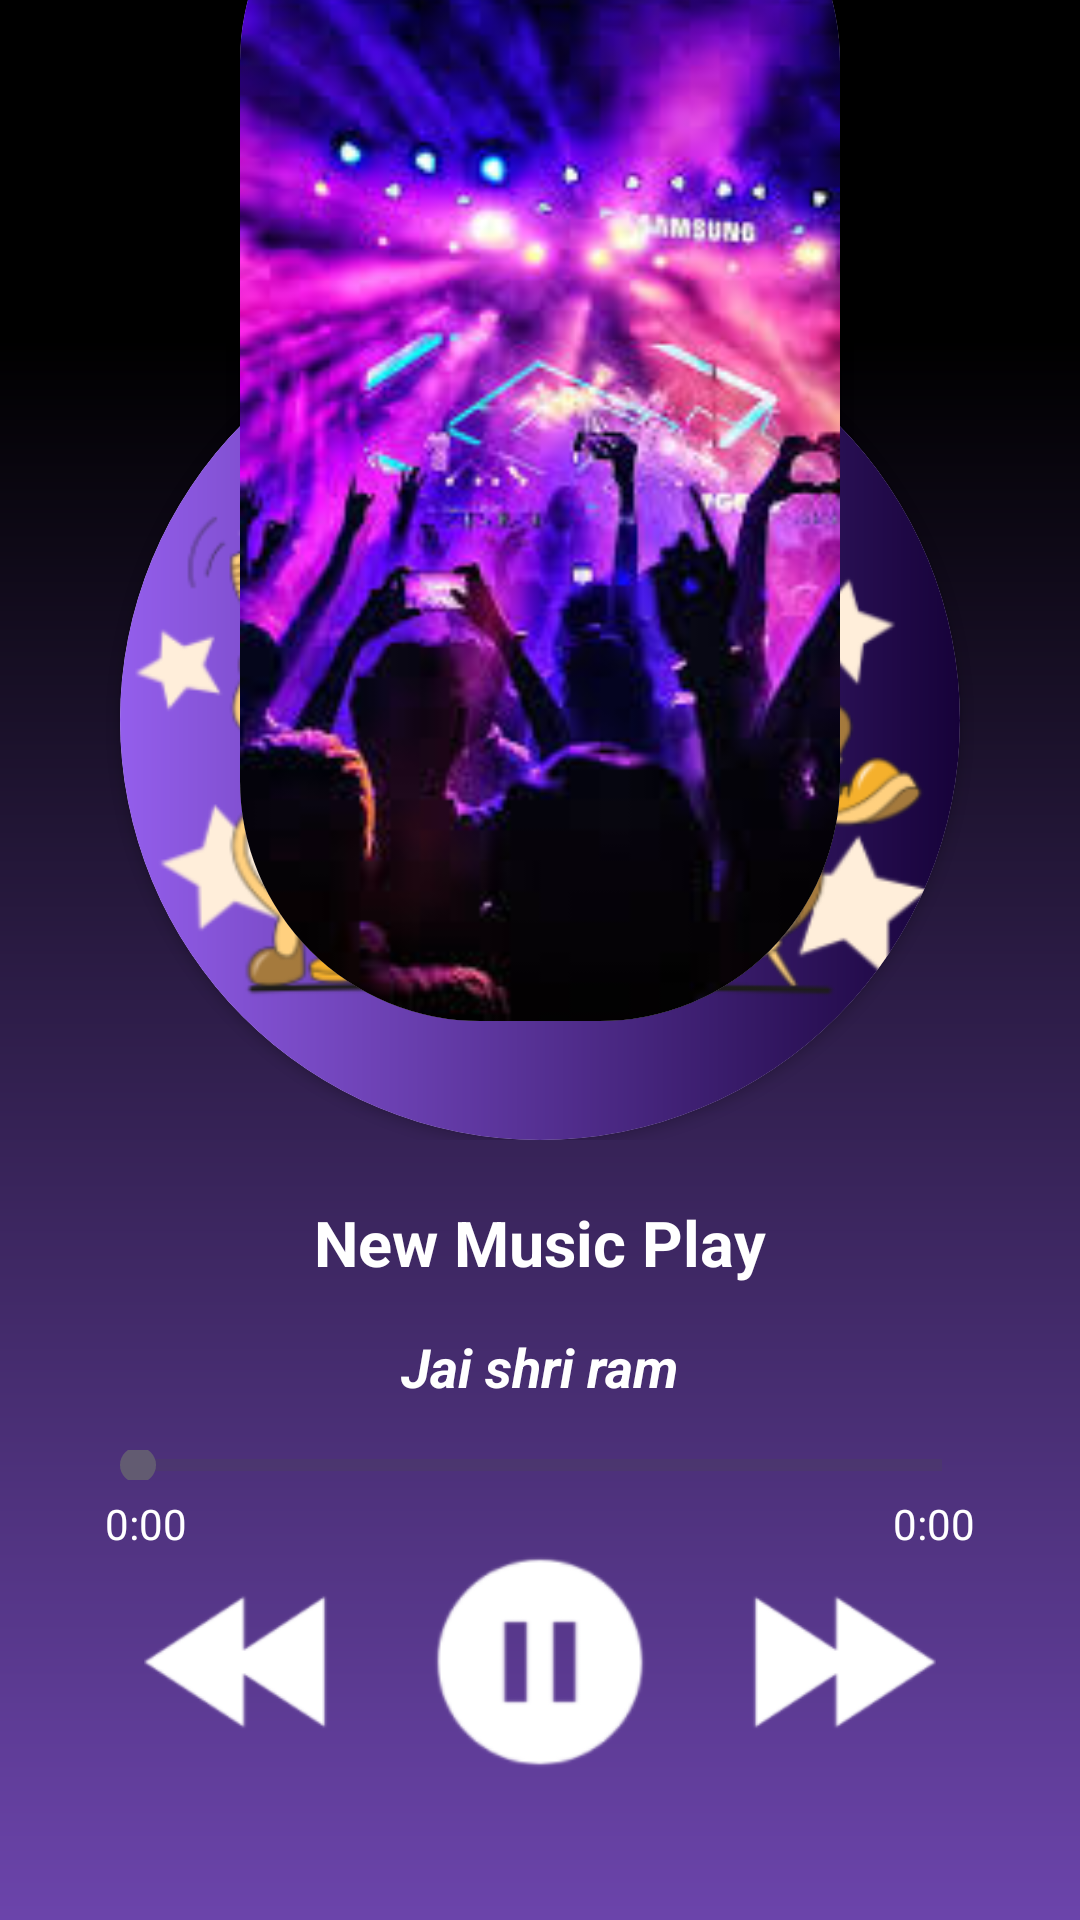

Screen size 1080×1920. Icon name, then its center in pixels as [x,y]:
pausebutton: [540,1677]
